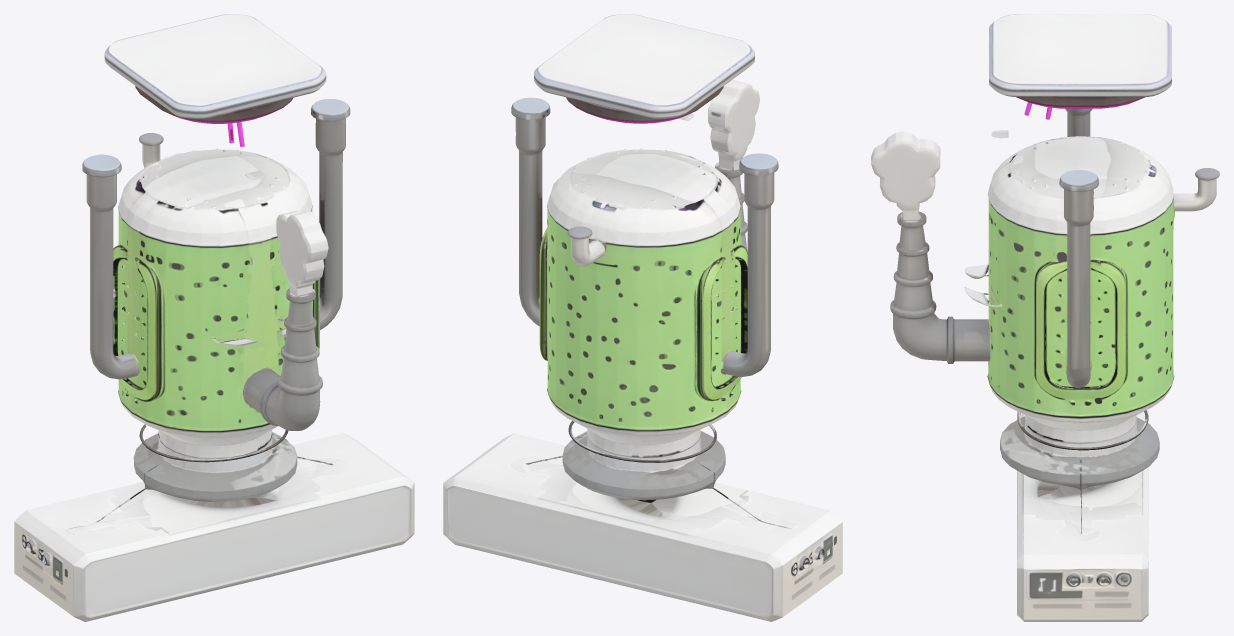
File: Fermentor.glb
The picture shows the model from 3 angles, left to right: view 1: azimuth 30°, elevation 25°; view 2: azimuth 150°, elevation 25°; view 3: azimuth 270°, elevation 25°; orthographic projection.
Parts seen in each view (by area): view 1: model; view 2: model; view 3: model.
Boxes of the visible parts, x1=… form: model: x1=14, y1=14, x2=414, y2=621; model: x1=443, y1=14, x2=842, y2=621; model: x1=871, y1=14, x2=1219, y2=621.
Bounding box in the file's own units: 1.39 × 1.9 × 1.21.
Materials: 1 (1 with a texture image).
